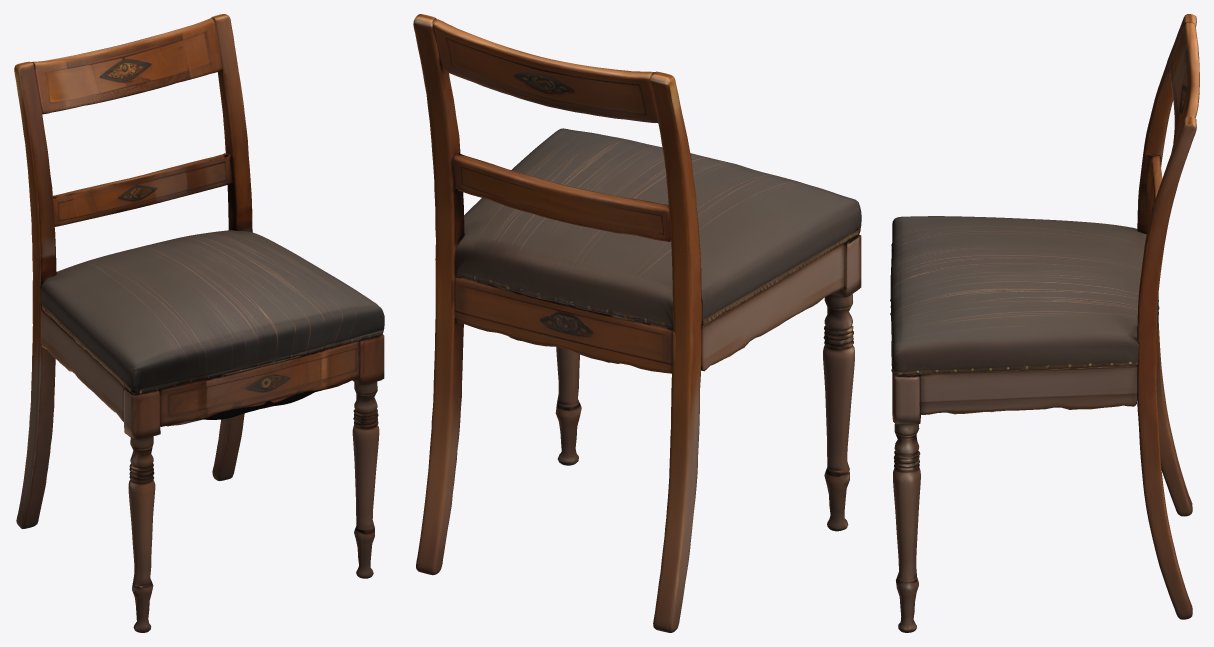
3 views of the same model, side by side, from view 1: azimuth 30°, elevation 25°; view 2: azimuth 150°, elevation 25°; view 3: azimuth 270°, elevation 25° (orthographic). The views are drawn at different scales.
Parts seen in each view (by area): view 1: root.0, root.3, root.2, root.4, root.1, root.10, root.6, root.7, root.8; view 2: root.0, root.2, root.1, root.3, root.5, root.10, root.6, root.8, root.7; view 3: root.0, root.1, root.9, root.7, root.2, root.3, root.10.
Part boxes in pixels (x1,y1,x2,y2): root.0: (39,230,384,394); root.3: (31,18,222,114); root.2: (14,61,56,528); root.4: (159,341,358,426); root.1: (211,14,252,480); root.10: (52,153,232,226); root.6: (123,387,160,632); root.7: (352,334,384,578); root.8: (41,308,125,421); root.0: (454,128,861,328); root.2: (650,71,701,632); root.1: (413,14,464,575); root.3: (432,19,658,122); root.5: (451,276,675,373); root.10: (453,153,671,241); root.6: (823,234,861,531); root.8: (701,243,844,371); root.7: (555,347,581,465); root.0: (890,216,1159,375); root.1: (1137,116,1196,619); root.9: (919,365,1137,414); root.7: (892,373,920,632); root.2: (1137,14,1196,516); root.3: (1168,22,1199,152); root.10: (1146,154,1162,220).
Bounding box in the file's own units: 0.457 × 0.81 × 0.4517.
Materials: 11 (11 with a texture image).
